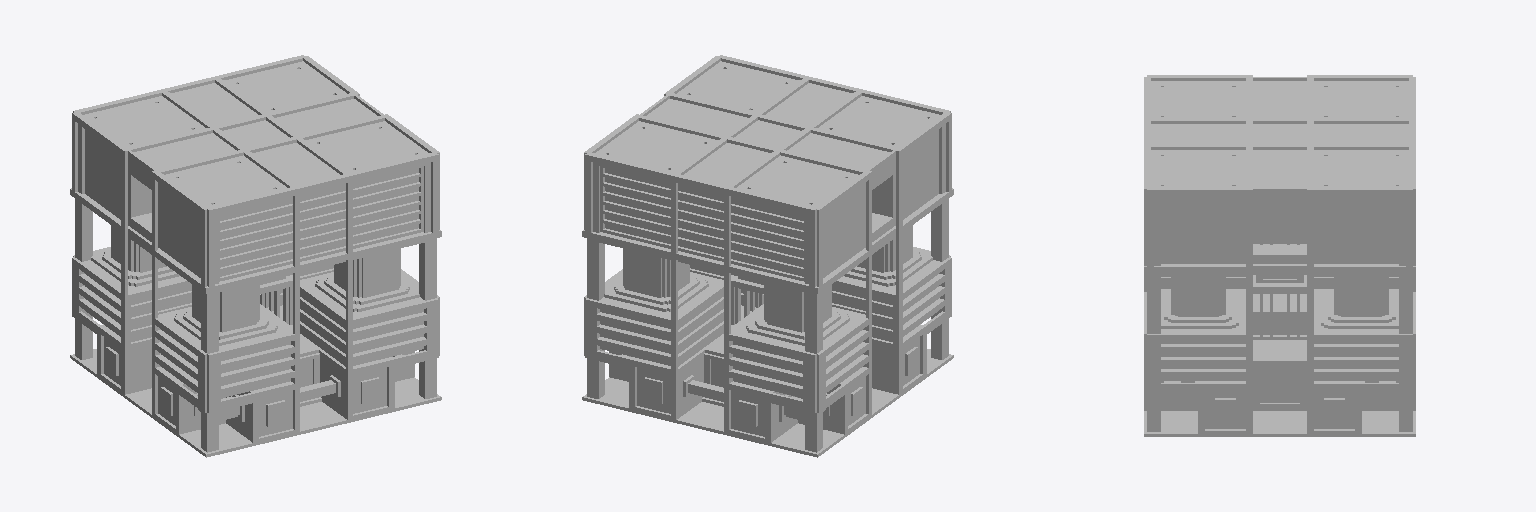
Rendered from teleportNetworkMaster.obj.
The picture shows the model from 3 angles: view 1: azimuth 30°, elevation 25°; view 2: azimuth 150°, elevation 25°; view 3: azimuth 270°, elevation 25°; orthographic projection.
Visible parts, largest first — view 1: Teleport_Network_Master; view 2: Teleport_Network_Master; view 3: Teleport_Network_Master.
Boxes of the visible parts, x1=… form: Teleport_Network_Master: x1=70, y1=55, x2=441, y2=457; Teleport_Network_Master: x1=582, y1=55, x2=953, y2=457; Teleport_Network_Master: x1=1144, y1=75, x2=1415, y2=436.
Size of the model in its own units: 80 by 80 by 80.